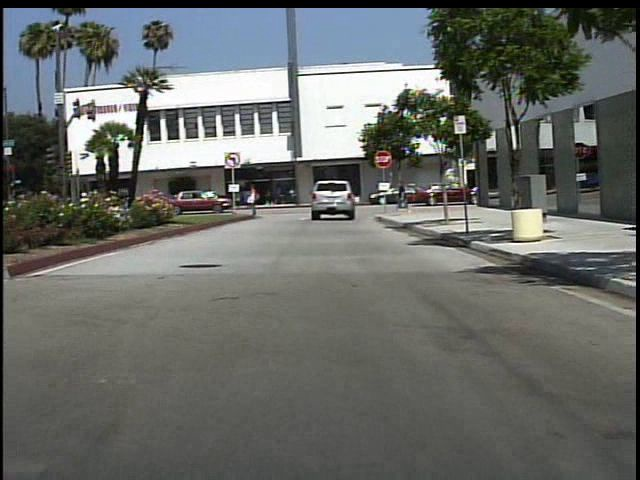person: (248, 181, 269, 220), (393, 178, 414, 214), (283, 181, 284, 208)
